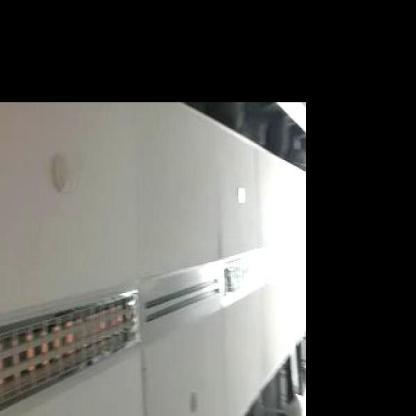light_off: (0, 275, 140, 415), (218, 245, 264, 315)
